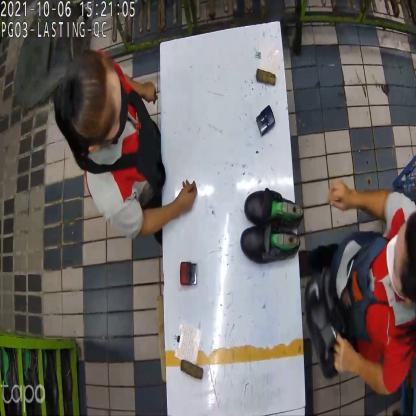shoes: (301, 271, 348, 381), (238, 191, 302, 267)
stamp: (257, 103, 276, 136), (180, 258, 197, 288)
